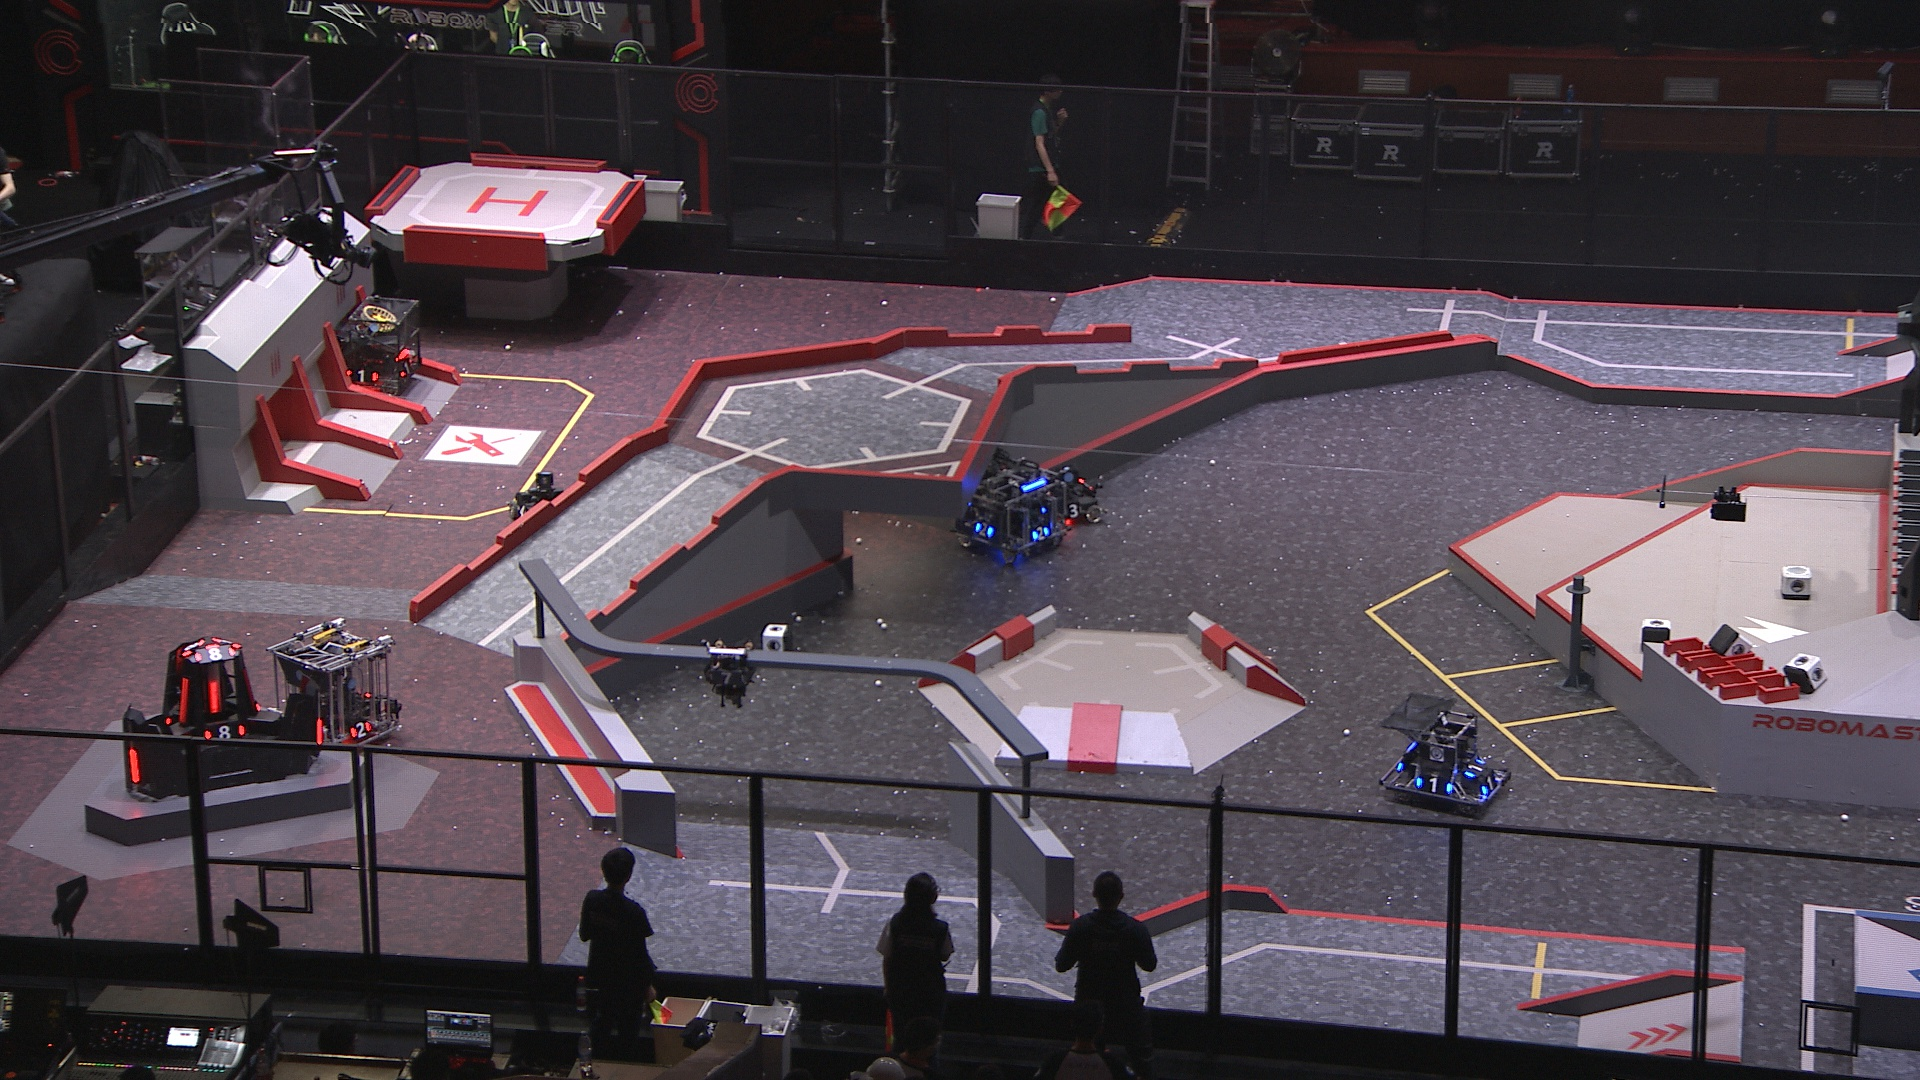armor: (200, 723, 248, 744), (195, 641, 237, 665), (1416, 775, 1451, 796), (711, 669, 744, 688), (344, 367, 378, 385), (347, 721, 377, 740), (177, 676, 189, 723), (1480, 773, 1501, 796), (179, 636, 200, 659), (207, 684, 220, 717), (127, 749, 138, 785), (973, 522, 998, 538), (1033, 524, 1054, 542), (313, 717, 324, 746), (1466, 760, 1484, 779), (398, 357, 415, 376), (1064, 504, 1084, 520)
base: (119, 633, 330, 796)
car: (266, 615, 401, 752), (935, 433, 1065, 567), (1373, 694, 1515, 814), (328, 291, 430, 410), (1026, 467, 1112, 534), (505, 469, 579, 542)
watcher: (699, 641, 757, 709)
